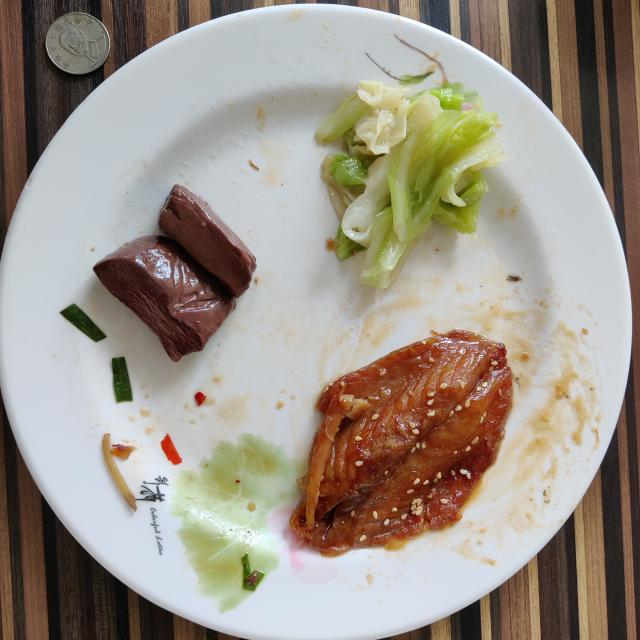Kabayaki sea bream fillet: (290, 330, 512, 555)
cabbage: (316, 81, 506, 288)
coin: (46, 12, 110, 74)
pig blood curd: (94, 185, 256, 361)
